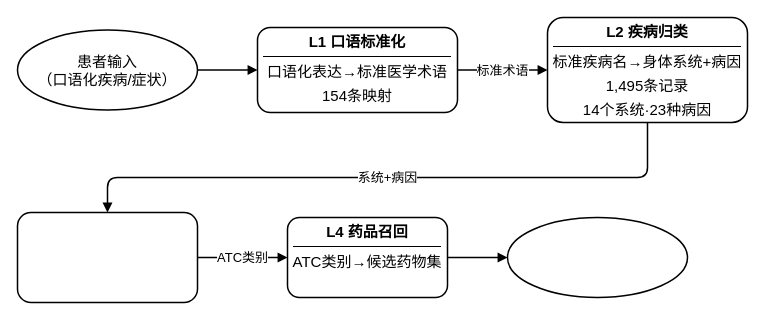
The diagram is 766 pixels wide and 321 high, and some of its shapes have lost their labels. Each missing label, with the centre of its shape:
L3 适应症映射 系统+病因→ATC药品类别 200条规则: [107,257]
候选药物集 → 安全过滤层: [597,257]
